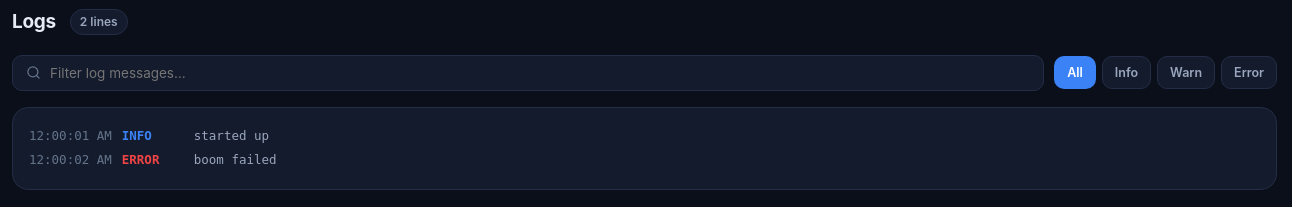
Test: LogsView › filters by search text
Type "boom" into the field with placeholder "Filter log messages…".
click(540, 72); type("boom")  # box [50, 64, 1030, 80]
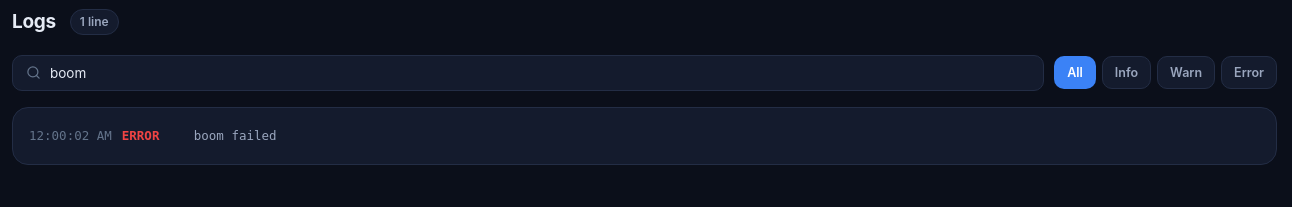
Now the text "started up" is gone
Now the text "boom failed" is shown, box [194, 126, 277, 145]
